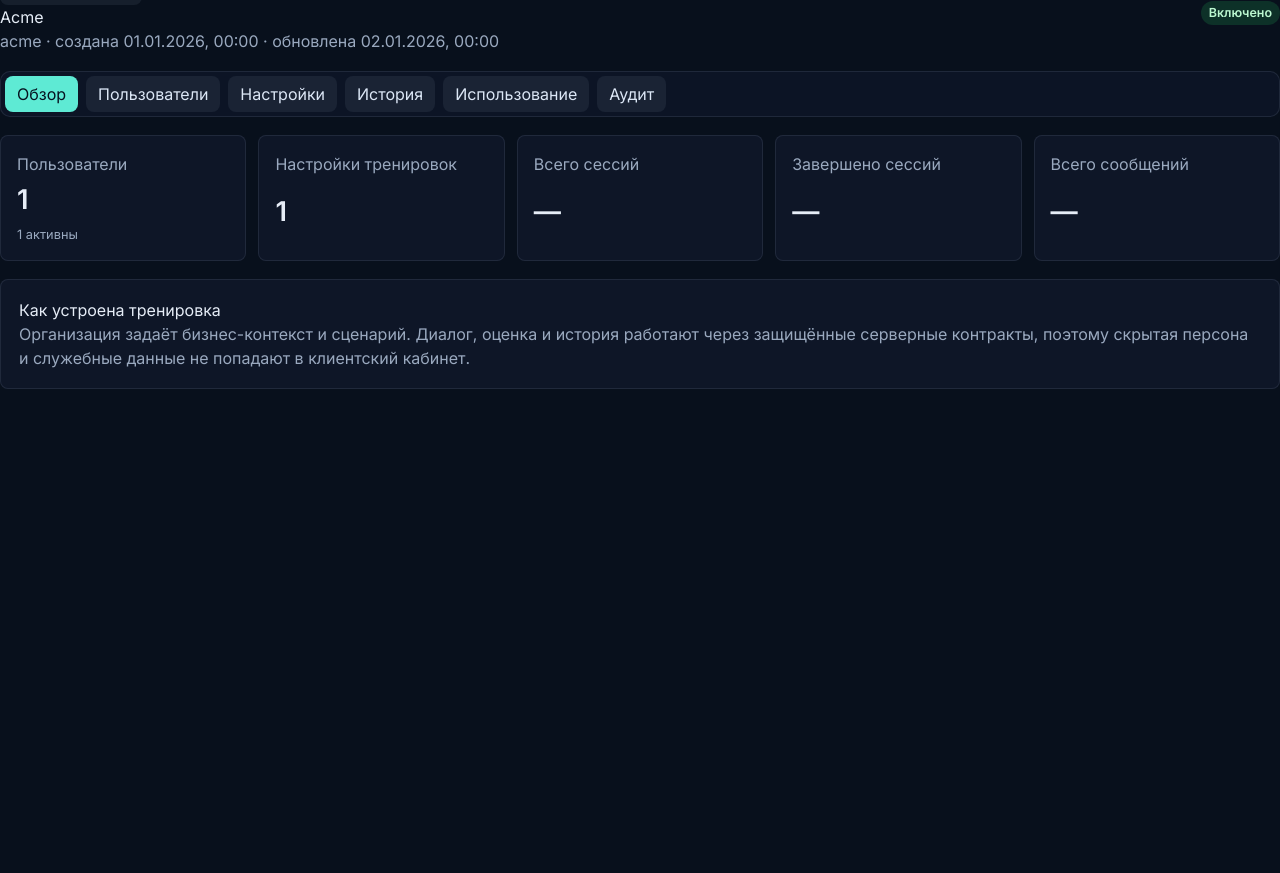
Test case: OrganizationDetailPage training configs › hides legacy training config fields from the form
This screenshot has width=1280, height=873.
Click the button "Настройки". click: click(283, 94)
box: x1=228 y1=76 x2=337 y2=112
(page scrolled)
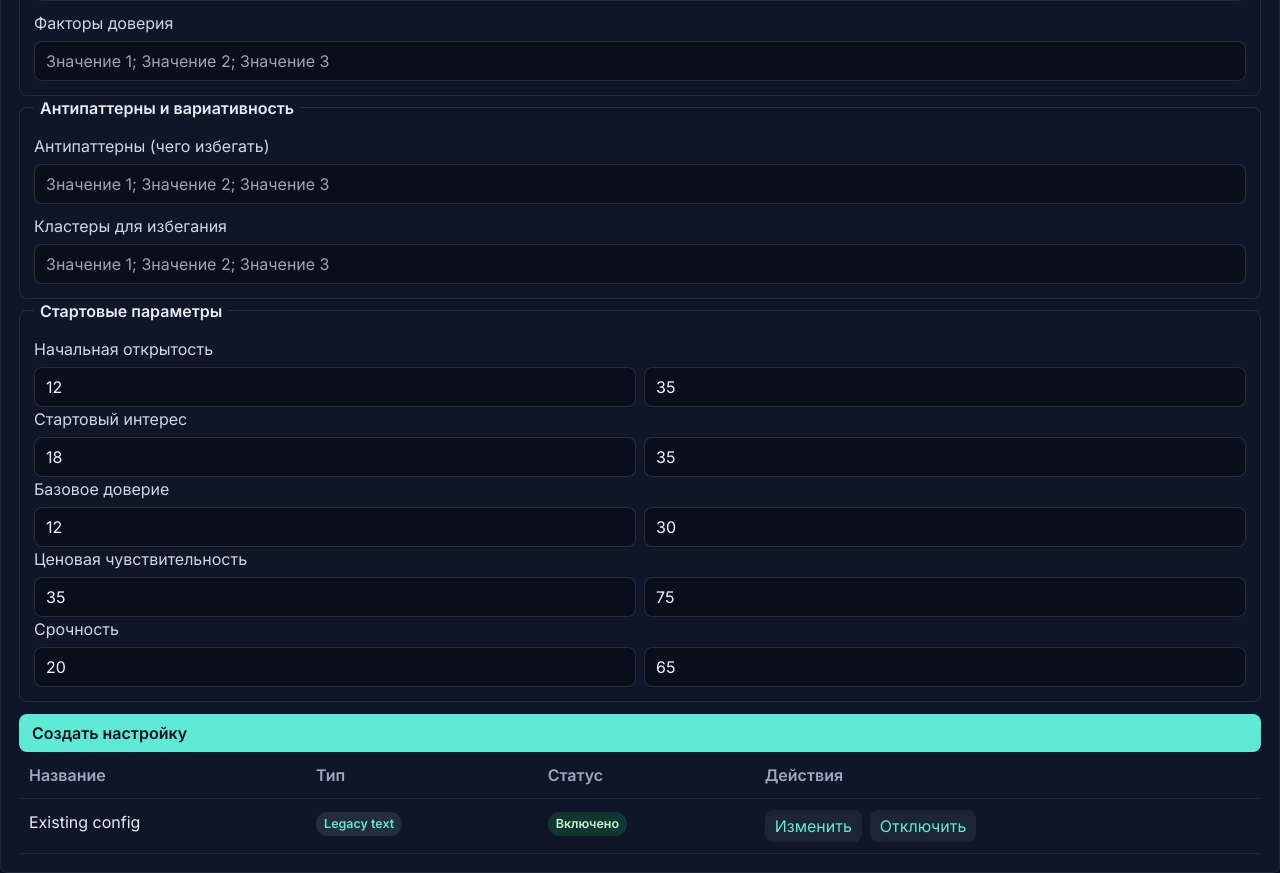
expect the text "Existing config" is shown: met, box x1=19 y1=798 x2=306 y2=853
